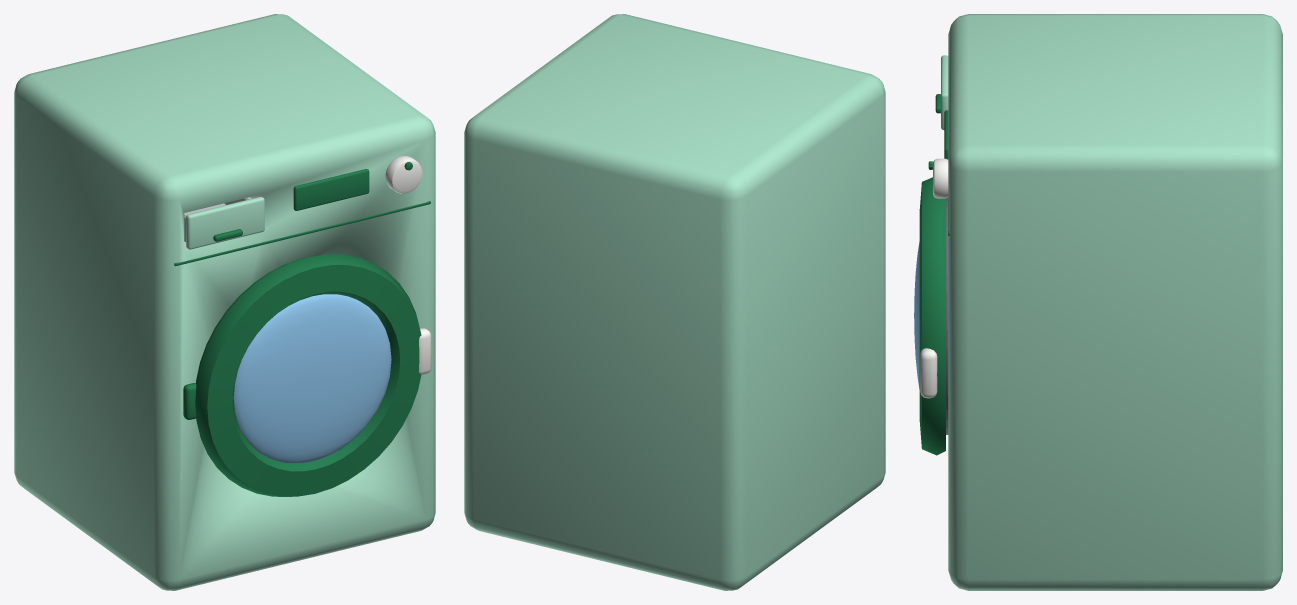
The model's file is maquina_lavar_pastel_menta.glb.
3 views of the same model, side by side, from view 1: azimuth 30°, elevation 25°; view 2: azimuth 150°, elevation 25°; view 3: azimuth 270°, elevation 25° (orthographic). The views are drawn at different scales.
Parts seen in each view (by area): view 1: maquina_lavar_pastel_menta, porta_maquina, gaveta_1; view 2: maquina_lavar_pastel_menta; view 3: maquina_lavar_pastel_menta, porta_maquina, gaveta_1.
Part boxes in pixels (<box>): maquina_lavar_pastel_menta: <box>14,14,435,590</box>; porta_maquina: <box>195,254,431,496</box>; gaveta_1: <box>184,196,264,249</box>; maquina_lavar_pastel_menta: <box>464,14,885,590</box>; maquina_lavar_pastel_menta: <box>928,14,1282,590</box>; porta_maquina: <box>914,177,945,455</box>; gaveta_1: <box>935,55,948,129</box>.
Size of the model in its own units: 0.6 by 0.85 by 0.6395.
Materials: 1 (1 with a texture image).
